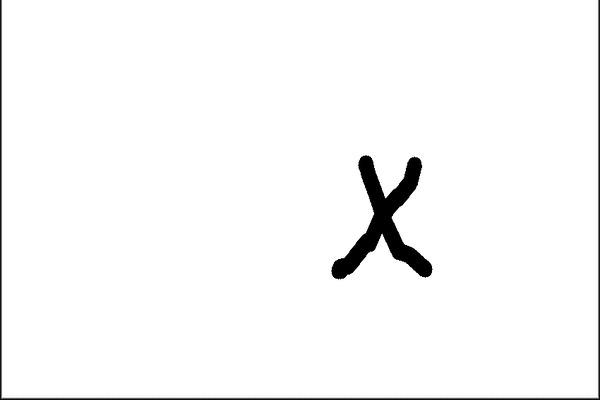X: (309, 137, 444, 292)
